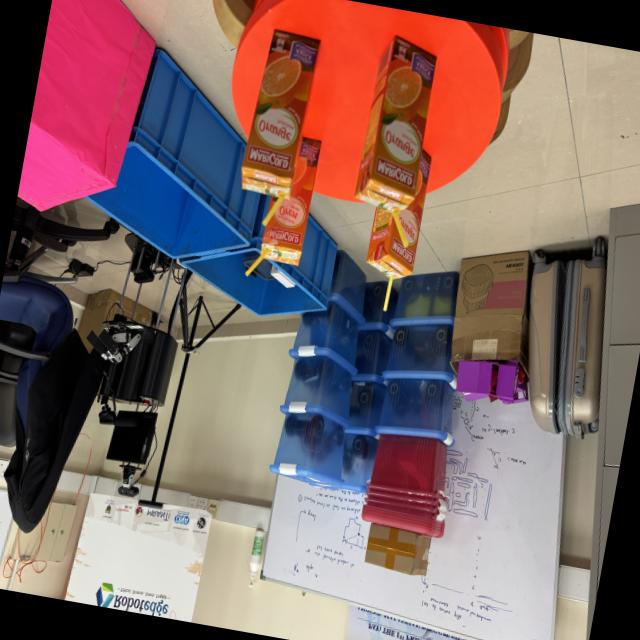drink_carton: (224, 15, 334, 232), (342, 30, 447, 253), (238, 120, 330, 296), (355, 136, 442, 320)
